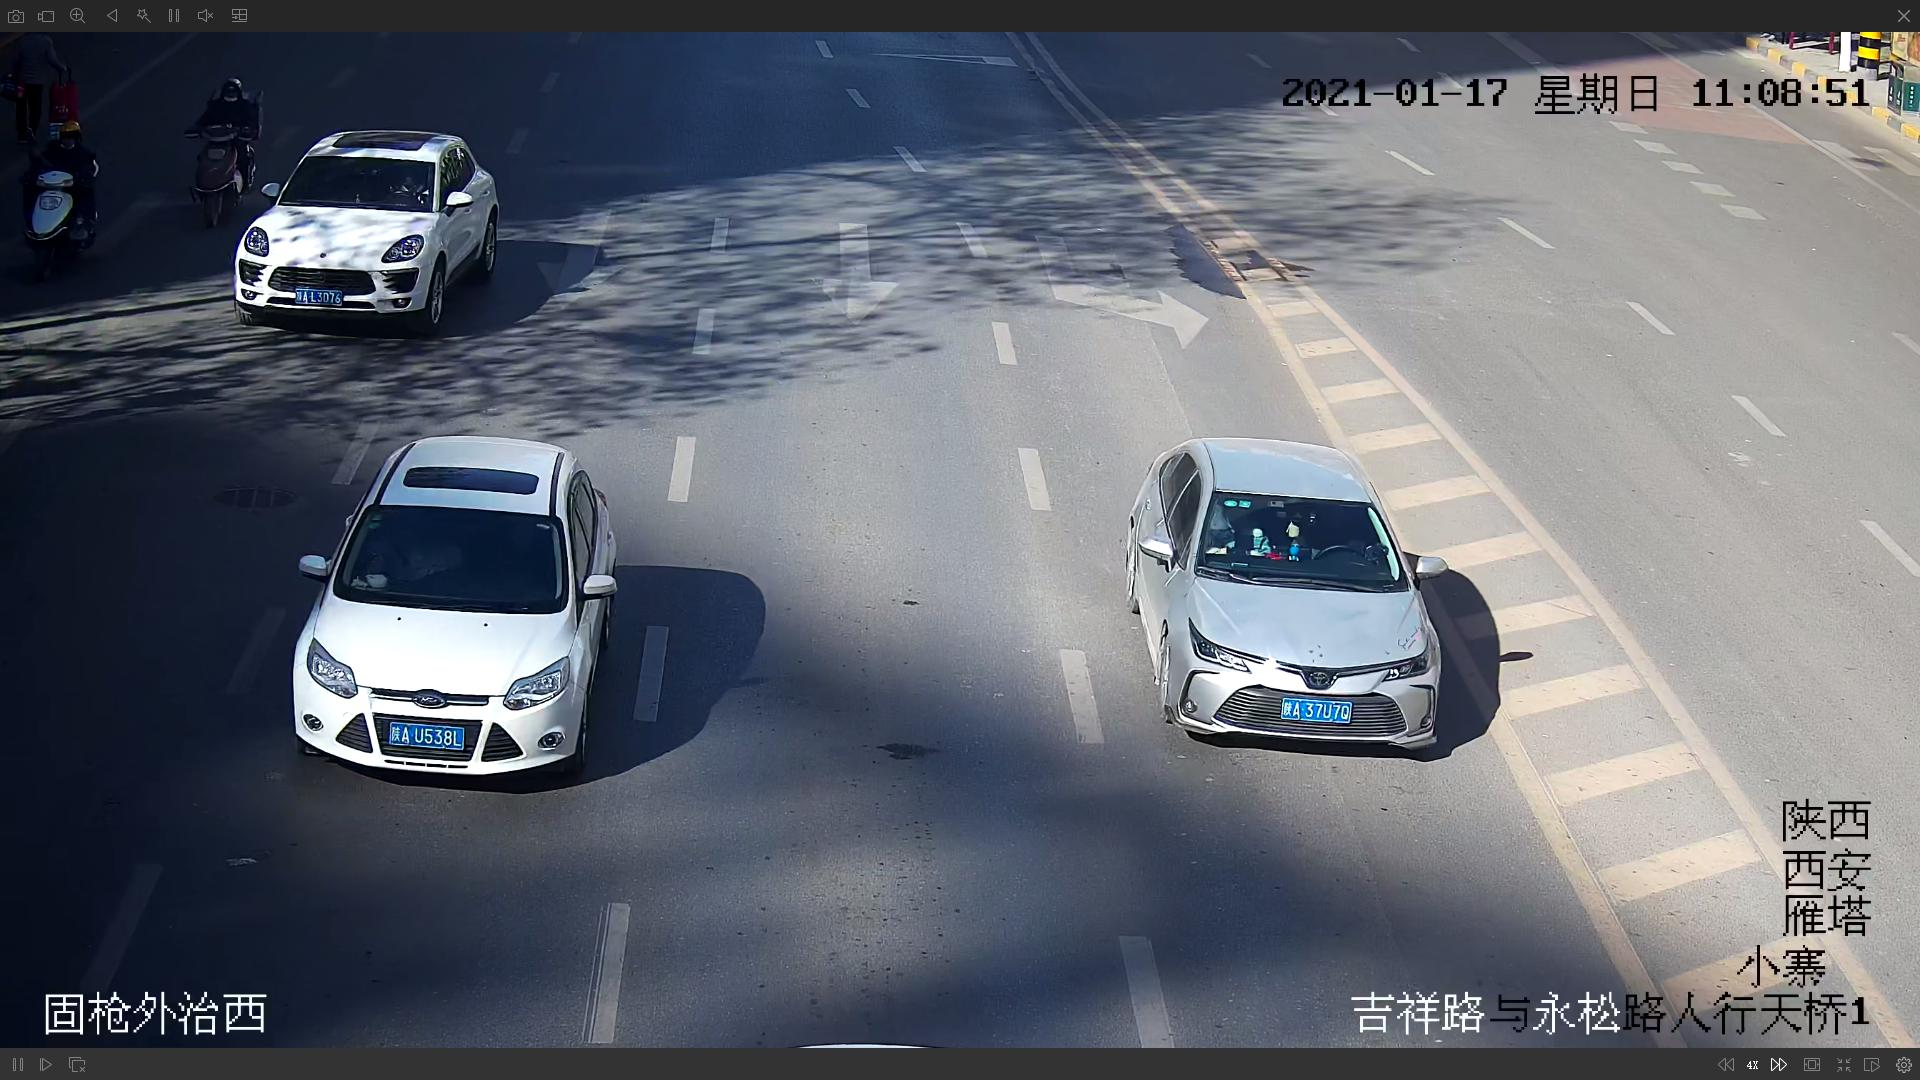silver-gray: (1121, 434, 1453, 762)
white: (294, 431, 617, 779), (228, 127, 502, 334)
